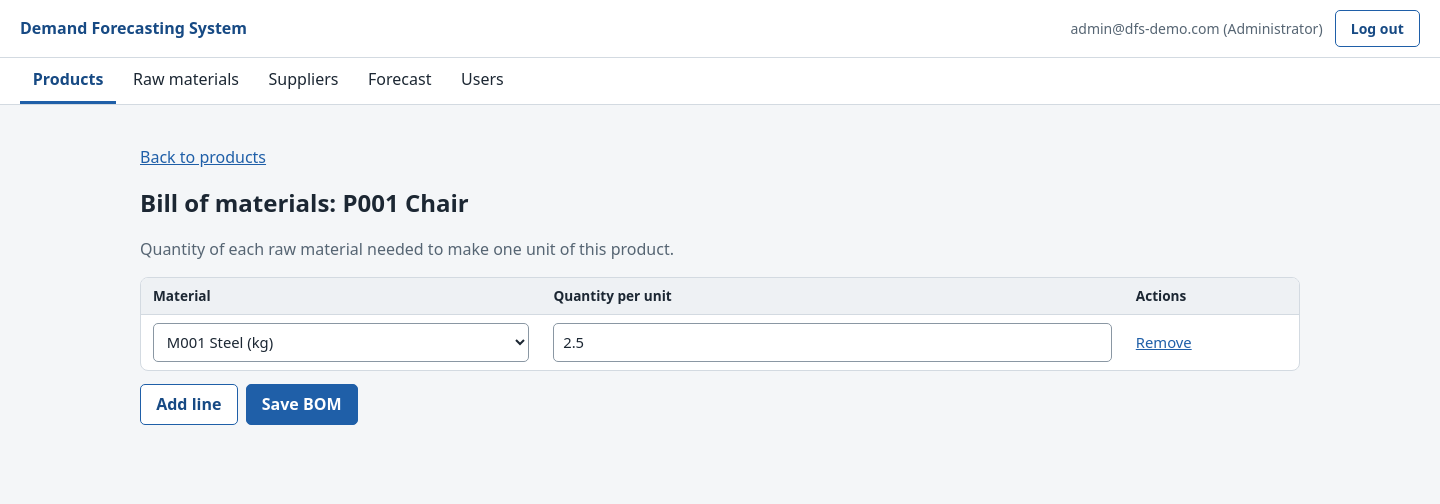
Test: bill of materials › shows server validation errors and removes lines
This screenshot has width=1440, height=504.
What coordinates should you click on to do the following:
click the button "Save BOM"
I would click on:
 (302, 404)
Its box is [246,384,358,425].
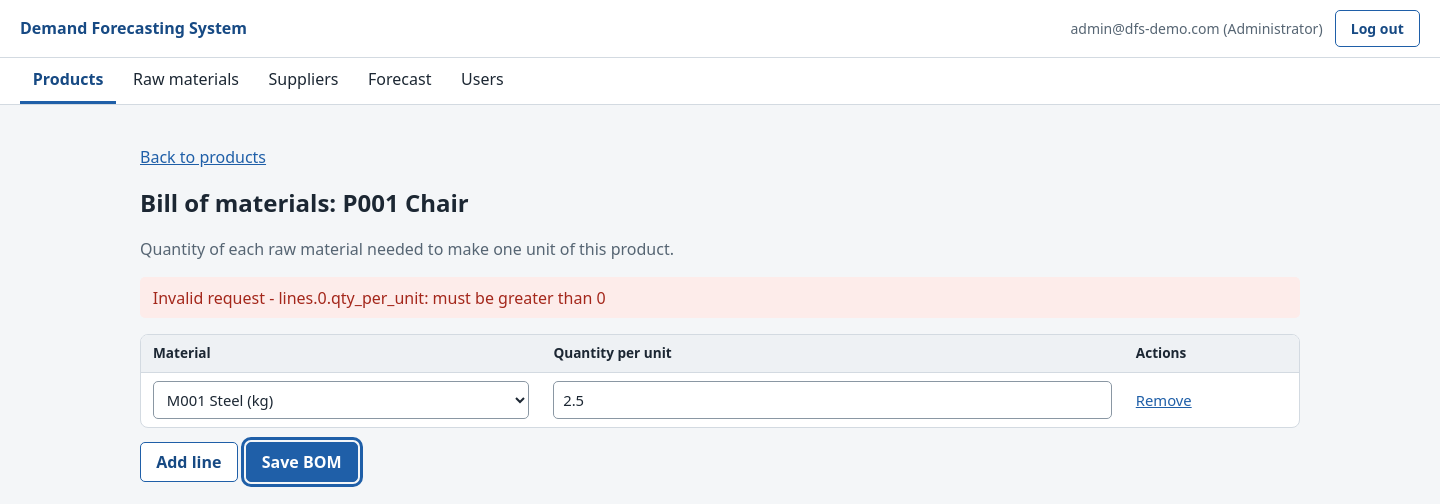
Expected: the message shows "must be greater than 0", [153,286,606,308]
What coordinates should you click on to do the following:
click the button named "Remove line 1"
I would click on:
 (1164, 400)
Its box is [1136,389,1192,411].
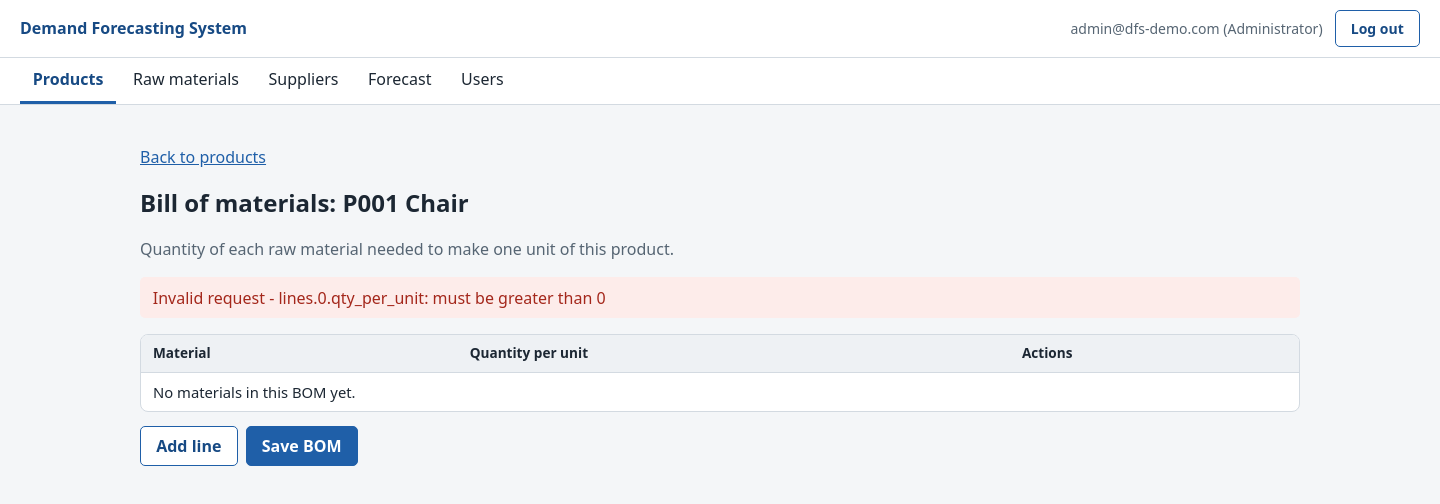
Expected: the text "No materials in this BOM yet." is shown, [141,372,1299,411]
